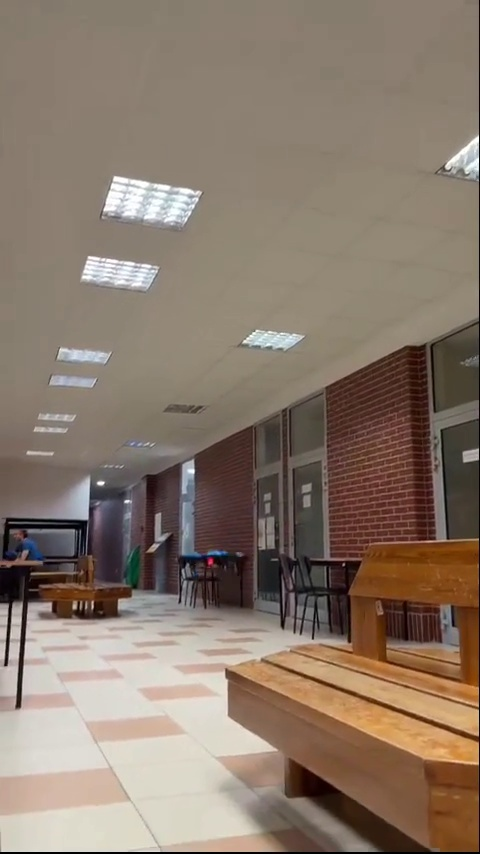drone: (173, 548, 248, 577)
no vest: (2, 530, 47, 614)
